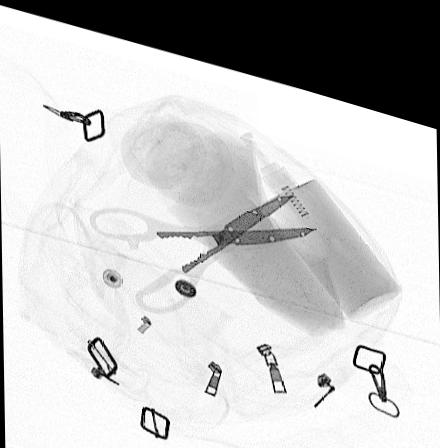Scissors: (87, 176, 318, 306)
